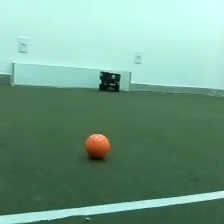ball: (82, 130, 112, 161)
goal: (9, 61, 133, 93)
robot: (96, 69, 122, 93)
